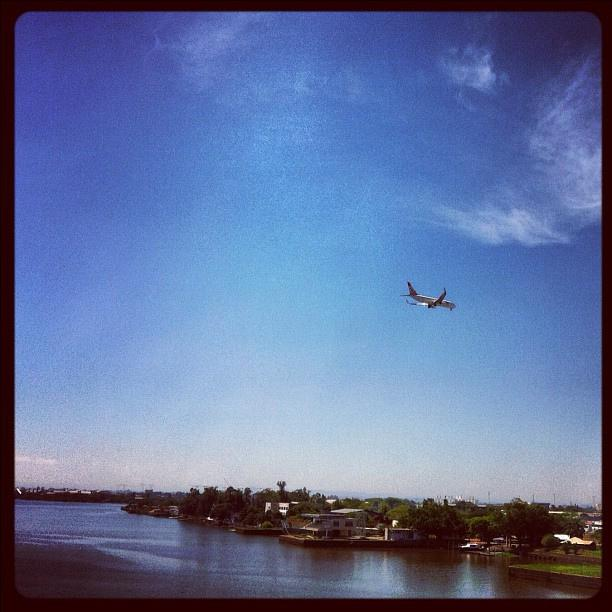Airplane: (401, 282, 459, 313)
